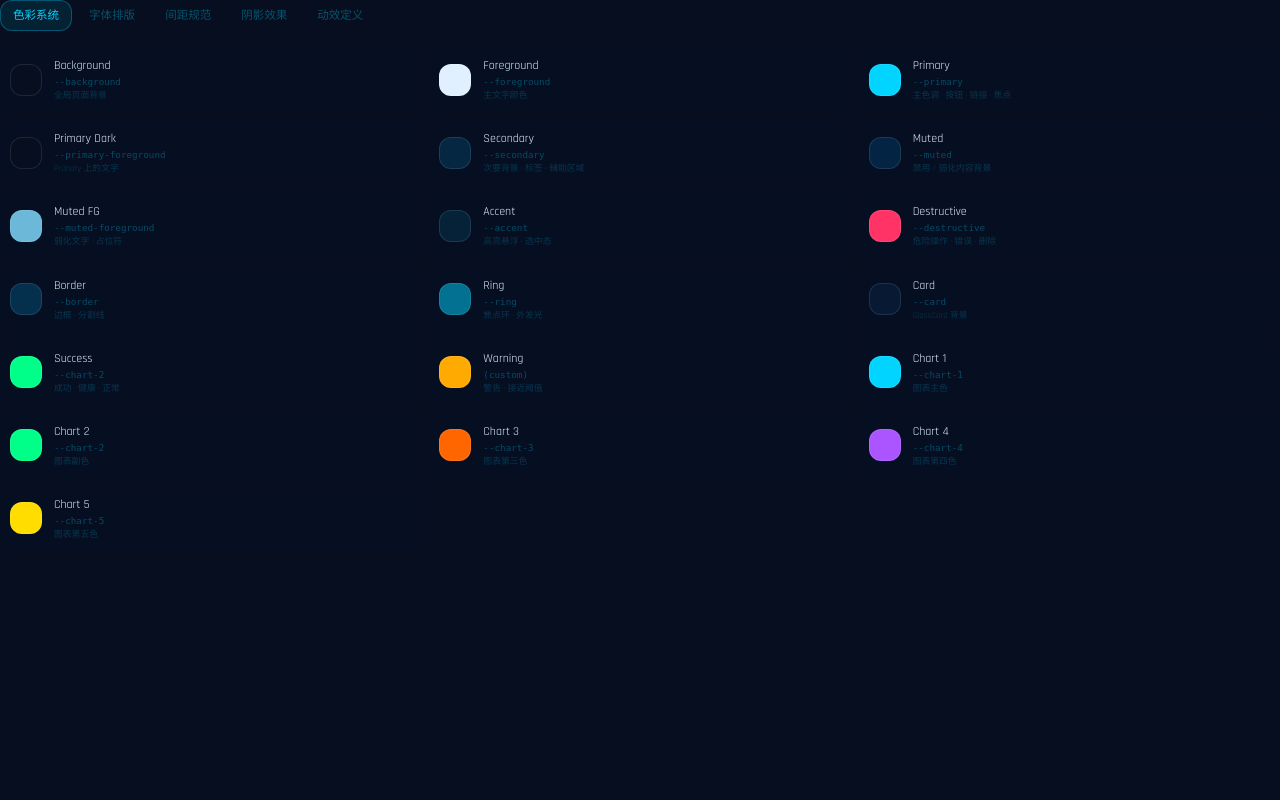
Test case: DesignTokens › 渲染 › 切换到字体标签应显示字体面板
Click the button with test id "token-tab-typography": [112, 16] box [76,0,148,31]
(page scrolled)
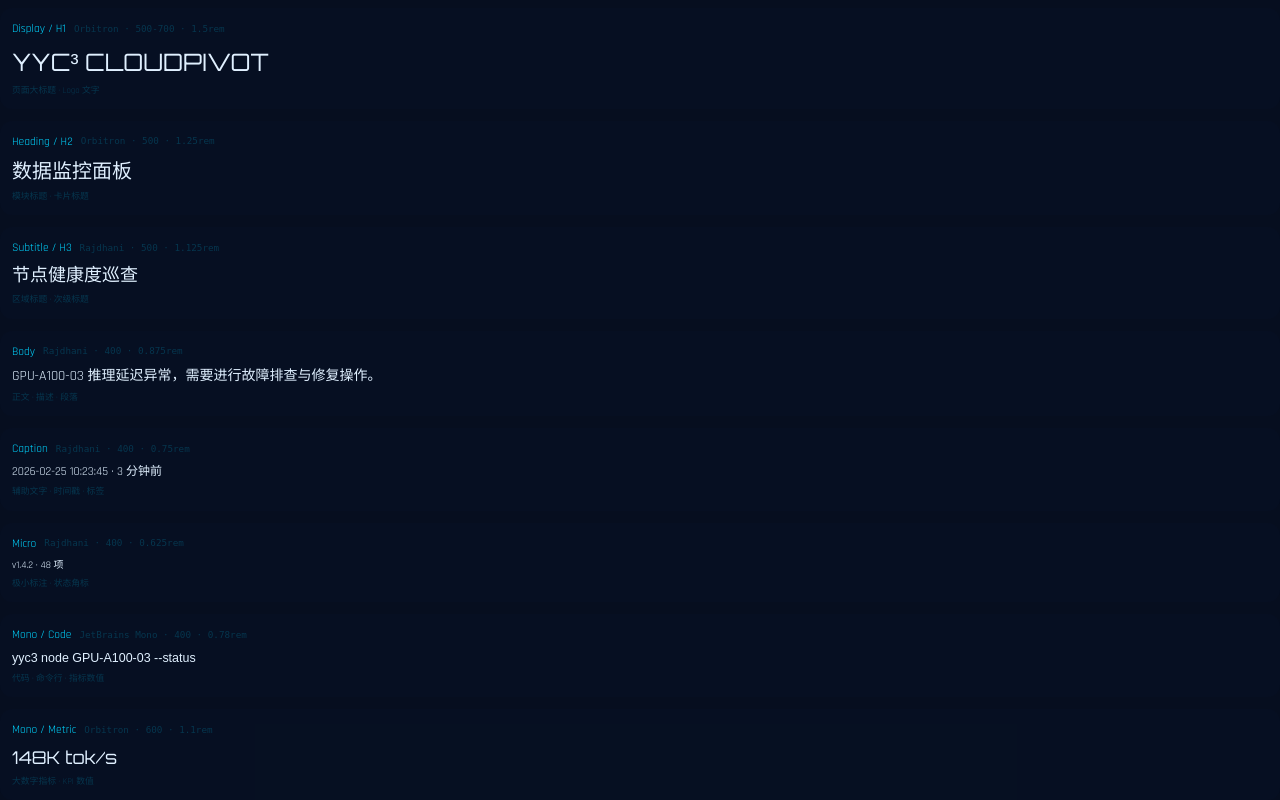
Now the element with test id "token-typography" is shown
